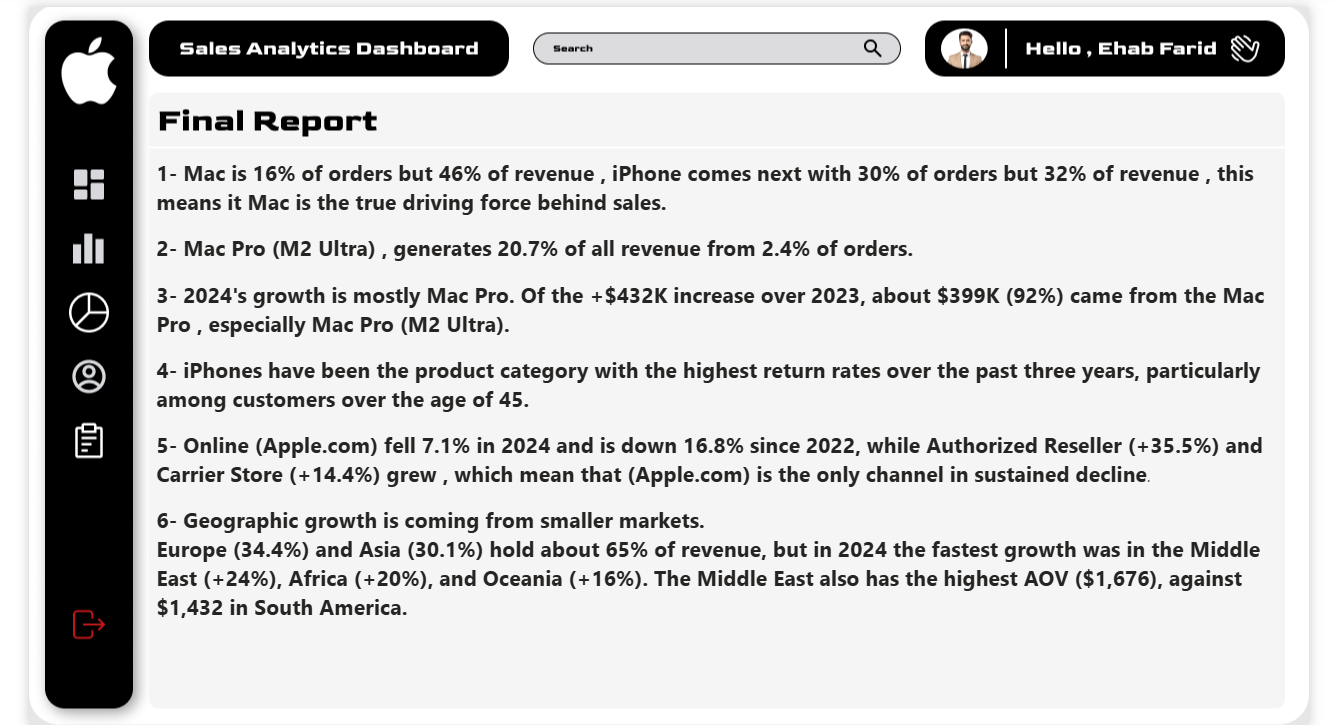

What the dashboard file says about the page in this screenshot:
{"tool":"powerbi","page":{"name":"Report","canvas":[1280,720],"ordinal":4},"visuals":[{"type":"barChart","fields":{"Category":["Dim City.region"],"Y":["Avg(Fact.customer_rating)"]},"box":[120,438.8,373.8,260],"z":0},{"type":"donutChart","fields":{"Category":["Fact.rating_category"],"Y":["CountNonNull(Fact.rating_category)"]},"box":[508.8,438.8,367.5,260],"z":1000},{"type":"columnChart","fields":{"Category":["Fact.customer_age_group"],"Y":["Avg(Fact.customer_rating)"]},"box":[892.5,438.8,366.2,260],"z":2000},{"type":"columnChart","fields":{"Category":["Fact.customer_age_group","Fact.return_status"],"Y":["CountNonNull(Fact.return_status)"]},"box":[120,120,1138.8,268.8],"z":3000},{"type":"slicer","fields":{"Values":["Parameter 2.Parameter 2"]},"box":[380,396.4,108.6,42.1],"z":4000},{"type":"actionButton","box":[40,222.5,40,40],"z":5000},{"type":"actionButton","box":[40,286.7,40,42.9],"z":6000},{"type":"actionButton","box":[40,160.8,40,37.9],"z":7000}]}

Visuals, with their boxes on the page's 1280x720 design canvas (x1, y1, x2, y2). These are canvas units, not pixel positions in the 1335x725 screenshot, which may show the page scaled, cropped or inside an application window:
barChart - Dim City.region x Avg(Fact.customer_rating): [x1=120, y1=439, x2=494, y2=699]
donutChart - Fact.rating_category x CountNonNull(Fact.rating_category): [x1=509, y1=439, x2=876, y2=699]
columnChart - Fact.customer_age_group x Avg(Fact.customer_rating): [x1=892, y1=439, x2=1259, y2=699]
columnChart - Fact.customer_age_group x Fact.return_status: [x1=120, y1=120, x2=1259, y2=389]
slicer - Parameter 2.Parameter 2: [x1=380, y1=396, x2=489, y2=438]
actionButton: [x1=40, y1=222, x2=80, y2=262]
actionButton: [x1=40, y1=287, x2=80, y2=330]
actionButton: [x1=40, y1=161, x2=80, y2=199]
